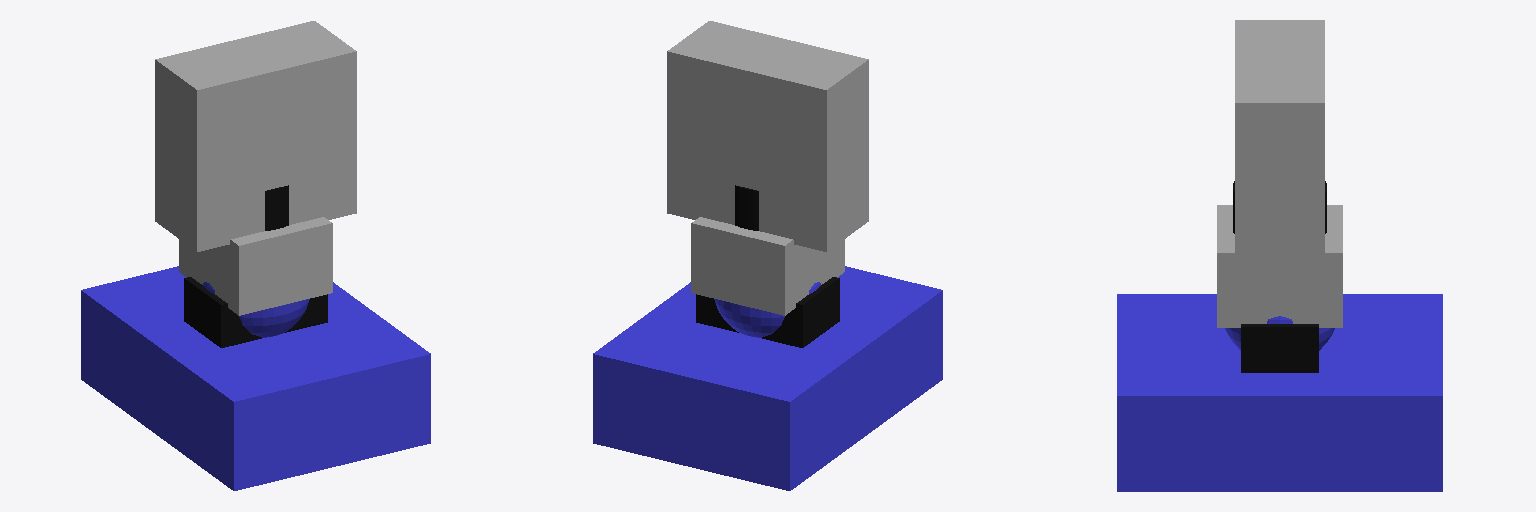
The robot description file, URDF, robot "evolved_robot":
<?xml version="1.0"?>
<robot name="evolved_robot">
  <material name="metal">
    <color rgba="0.7 0.7 0.7 1.0"/>
  </material>
  <material name="plastic">
    <color rgba="0.3 0.3 0.9 1.0"/>
  </material>
  <material name="rubber">
    <color rgba="0.1 0.1 0.1 1.0"/>
  </material>
  <material name="red">
    <color rgba="1.0 0.0 0.0 1.0"/>
  </material>
  <material name="wheel_material">
    <color rgba="0.2 0.2 0.2 1.0"/>
  </material>
  <link name="base_link">
    <visual>
      <geometry><box size="0.2781581222899774 0.3739528256750301 0.12047451448317992"/></geometry>
      <material name="plastic"/>
    </visual>
    <collision>
      <geometry><box size="0.2781581222899774 0.3739528256750301 0.12047451448317992"/></geometry>
    </collision>
    <inertial>
      <mass value="5.0"/>
      <inertia ixx="0.12862902039191446" ixy="0" ixz="0" 
               iyy="0.07657170802986996" iyz="0" 
               izz="0.18101054735518787"/>
    </inertial>
  </link>
  <link name="link1">
    <visual>
      <geometry><box size="0.1500158224353627 0.0902779075223667 0.1166910226070632"/></geometry>
      <material name="rubber"/>
    </visual>
    <collision>
      <geometry><box size="0.1500158224353627 0.0902779075223667 0.1166910226070632"/></geometry>
    </collision>
    <inertial>
      <mass value="0.5"/>
      <inertia ixx="0.0018139079453082605" ixy="0" ixz="0" 
               iyy="0.0030101284781700343" iyz="0" 
               izz="0.0025545706306312724"/>
    </inertial>
  </link>
  <joint name="joint1" type="fixed">
    <parent link="base_link"/>
    <child link="link1"/>
    <origin xyz="0 0 0.06023725724158996" rpy="0 0 0"/>
    <axis xyz="-0.6294383714801838 -0.2944237727698373 0.7191119374174992"/>
    <dynamics damping="0.9475607656109023" friction="0.1"/>
  </joint>
  <link name="link2">
    <visual>
      <geometry><sphere radius="0.0686968807996716"/></geometry>
      <material name="plastic"/>
    </visual>
    <collision>
      <geometry><sphere radius="0.0686968807996716"/></geometry>
    </collision>
    <inertial>
      <mass value="0.5"/>
      <inertia ixx="0.0018877045726417151" ixy="0" ixz="0" 
               iyy="0.0018877045726417151" iyz="0" 
               izz="0.0018877045726417151"/>
    </inertial>
  </link>
  <joint name="joint2" type="fixed">
    <parent link="base_link"/>
    <child link="link2"/>
    <origin xyz="0 0 0.11023725724158996" rpy="0 0 0"/>
    <axis xyz="0.802993834590659 -0.5923869848484455 0.06541071618287715"/>
    <dynamics damping="0.698665672160521" friction="0.1"/>
  </joint>
  <link name="link3">
    <visual>
      <geometry><box size="0.13191980449005813 0.145218197137653 0.09431883426255927"/></geometry>
      <material name="metal"/>
    </visual>
    <collision>
      <geometry><box size="0.13191980449005813 0.145218197137653 0.09431883426255927"/></geometry>
    </collision>
    <inertial>
      <mass value="0.5"/>
      <inertia ixx="0.0024986972730465314" ixy="0" ixz="0" 
               iyy="0.002191573109445274" iyz="0" 
               izz="0.003207596633050451"/>
    </inertial>
  </link>
  <joint name="joint3" type="floating">
    <parent link="base_link"/>
    <child link="link3"/>
    <origin xyz="0 0 0.16023725724158996" rpy="0 0 0"/>
    <axis xyz="-0.00844357191485646 -0.1752183636232804 0.9844933880643885"/>
    <dynamics damping="0.2866828248029867" friction="0.1"/>
  </joint>
  <link name="link4">
    <visual>
      <geometry><cylinder radius="0.05448446269041668" length="0.10246528480598105"/></geometry>
      <material name="rubber"/>
    </visual>
    <collision>
      <geometry><cylinder radius="0.05448446269041668" length="0.10246528480598105"/></geometry>
    </collision>
    <inertial>
      <mass value="0.5"/>
      <inertia ixx="0.0016170670511967526" ixy="0" ixz="0" 
               iyy="0.0016170670511967526" iyz="0" 
               izz="0.0014842783373317035"/>
    </inertial>
  </link>
  <joint name="joint4" type="fixed">
    <parent link="base_link"/>
    <child link="link4"/>
    <origin xyz="0 0 0.21023725724158998" rpy="0 0 0"/>
    <axis xyz="-0.8687554485396898 0.37174054402450407 0.32722001552620233"/>
    <dynamics damping="0.3724402879621216" friction="0.1"/>
  </joint>
  <link name="link5">
    <visual>
      <geometry><sphere radius="0.02638153123708216"/></geometry>
      <material name="metal"/>
    </visual>
    <collision>
      <geometry><sphere radius="0.02638153123708216"/></geometry>
    </collision>
    <inertial>
      <mass value="0.5"/>
      <inertia ixx="0.00027839407616525667" ixy="0" ixz="0" 
               iyy="0.00027839407616525667" iyz="0" 
               izz="0.00027839407616525667"/>
    </inertial>
  </link>
  <joint name="joint5" type="prismatic">
    <parent link="base_link"/>
    <child link="link5"/>
    <origin xyz="0 0 0.26023725724158997" rpy="0 0 0"/>
    <axis xyz="0.6437978595403788 0.5424854833993221 0.5396608345546583"/>
    <dynamics damping="0.8366085572429733" friction="0.1"/>
    <limit lower="-2.844163976110992" upper="1.5325606017750952" effort="100" velocity="100"/>
  </joint>
  <link name="link6">
    <visual>
      <geometry><box size="0.2248738714098747 0.10310209383206413 0.21832004370199348"/></geometry>
      <material name="metal"/>
    </visual>
    <collision>
      <geometry><box size="0.2248738714098747 0.10310209383206413 0.21832004370199348"/></geometry>
    </collision>
    <inertial>
      <mass value="0.5"/>
      <inertia ixx="0.004857806936216342" ixy="0" ixz="0" 
               iyy="0.008185991627075433" iyz="0" 
               izz="0.005099858316285052"/>
    </inertial>
  </link>
  <joint name="joint6" type="revolute">
    <parent link="base_link"/>
    <child link="link6"/>
    <origin xyz="0 0 0.31023725724158996" rpy="0 0 0"/>
    <axis xyz="0.6705199260274887 0.18636277116561134 -0.7181030192970677"/>
    <dynamics damping="0.4273329463005927" friction="0.1"/>
    <limit lower="-0.333794321286992" upper="1.9474029542668914" effort="100" velocity="100"/>
  </joint>
</robot>

--- Render facts (derived) ---
Views: 3 orthographic renders of the robot side by side, from view 1: azimuth 30°, elevation 25°; view 2: azimuth 150°, elevation 25°; view 3: azimuth 270°, elevation 25°.
Robot: evolved_robot — 7 links, 6 joints (1 revolute, 1 prismatic, 3 fixed, 1 floating); root link base_link; default pose: all joints at 0.
Links seen in each view (by area): view 1: base_link, link6, link3, link1, link2, link4; view 2: base_link, link6, link3, link1, link2, link4; view 3: base_link, link6, link3, link1, link2.
Link boxes in pixels (box(x1,y1,x2,y2)): base_link: box(81, 266, 430, 490); link6: box(155, 21, 356, 251); link3: box(179, 217, 332, 315); link1: box(184, 277, 327, 347); link2: box(203, 282, 309, 337); link4: box(265, 185, 288, 230); base_link: box(593, 266, 942, 490); link6: box(667, 21, 868, 251); link3: box(691, 217, 844, 315); link1: box(696, 277, 839, 347); link2: box(714, 282, 820, 337); link4: box(735, 185, 758, 230); base_link: box(1117, 294, 1442, 491); link6: box(1235, 20, 1324, 275); link3: box(1217, 205, 1342, 327); link1: box(1241, 324, 1318, 372); link2: box(1225, 316, 1334, 350).
Bounding box of the posed robot: 0.2782 × 0.374 × 0.4796 m (x, y, z).
Geometry: primitives only (box / cylinder / sphere), no mesh files.